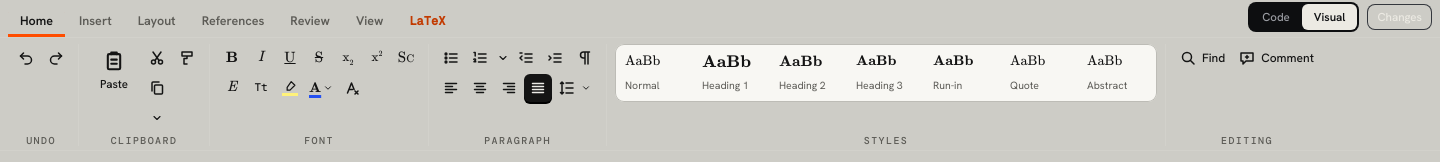
it: Ribbon › refers like Word: the References tab gathers contents, footnotes, citations and captions
Click the tab "References" at (233, 22), box 190,8 -> 276,36
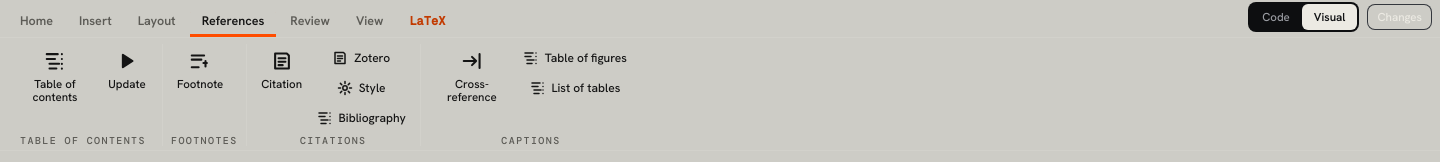
Expected: the button "Table of contents" is shown, 12,44 -> 98,108
Expected: the button "Update" is shown, 100,44 -> 154,95
Expected: the button "Footnote" is shown, 171,44 -> 229,95
